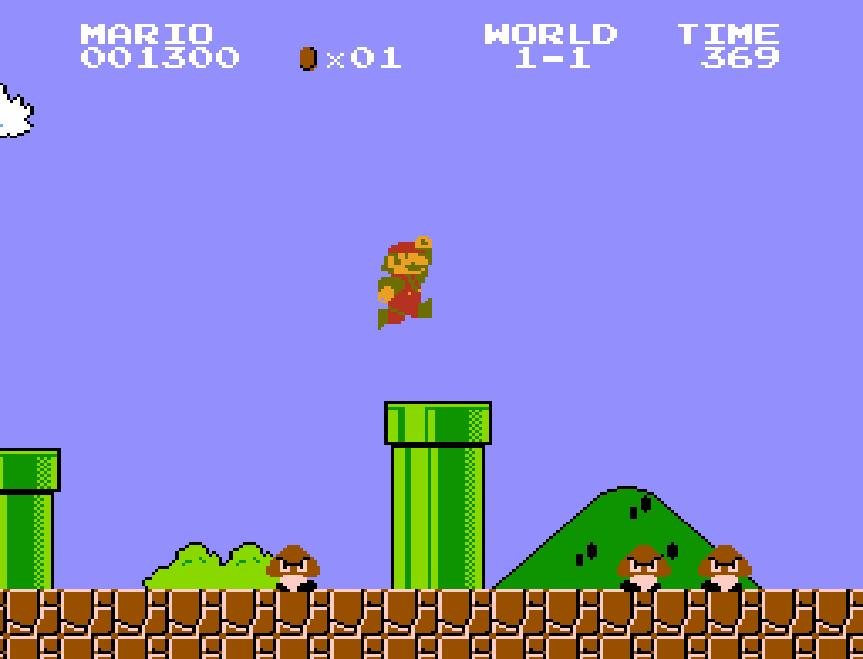big_mario: (376, 233, 434, 331)
